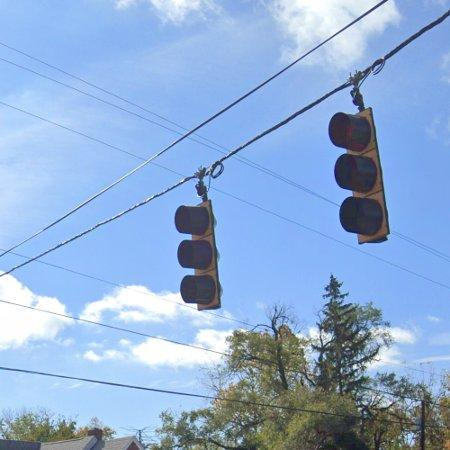traffic lights: (175, 201, 221, 311)
